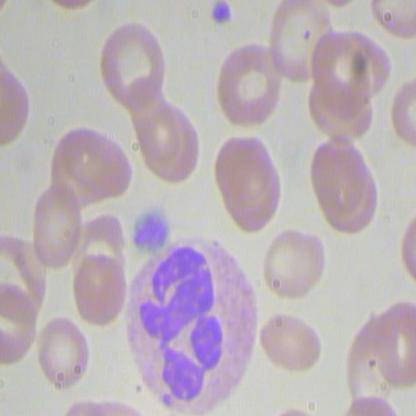Platelets: (128, 204, 174, 254), (205, 1, 232, 31)
RBC: (211, 132, 285, 230), (304, 135, 378, 233), (216, 39, 286, 133), (96, 15, 166, 108), (260, 228, 332, 303), (256, 300, 328, 375), (28, 178, 82, 270), (35, 313, 95, 390), (68, 250, 127, 328)
WBC: (112, 238, 264, 416)
